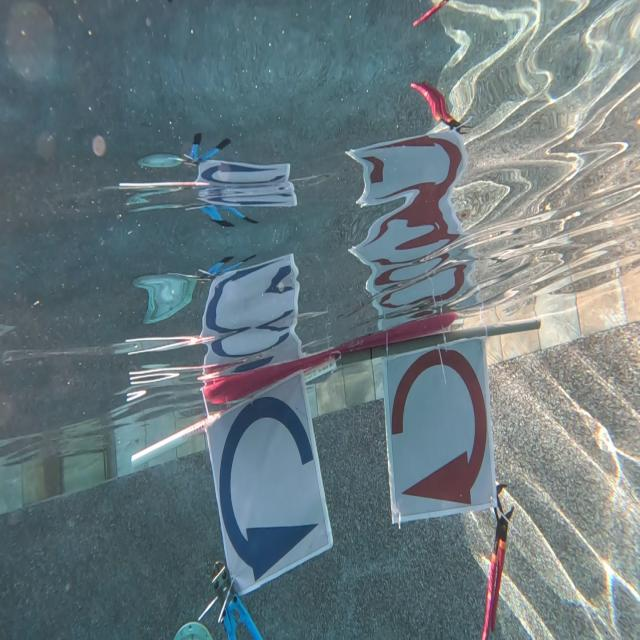blue_side: (206, 372, 336, 594)
red_side: (386, 338, 495, 519)
